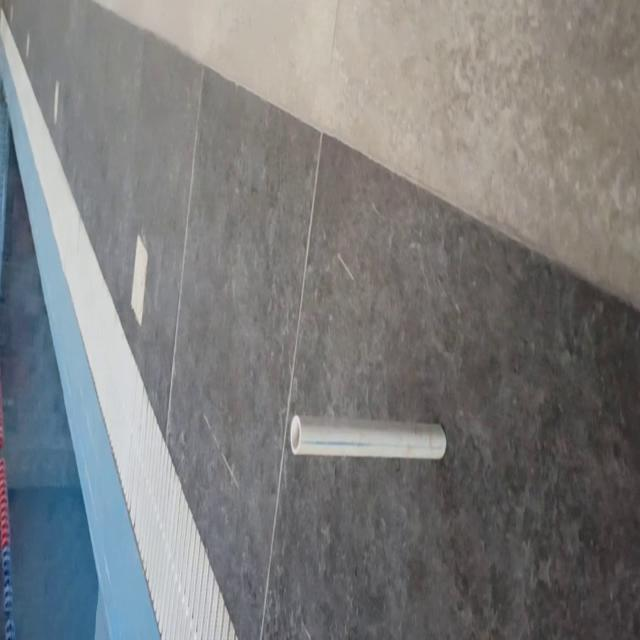Cube: (289, 412, 447, 462)
